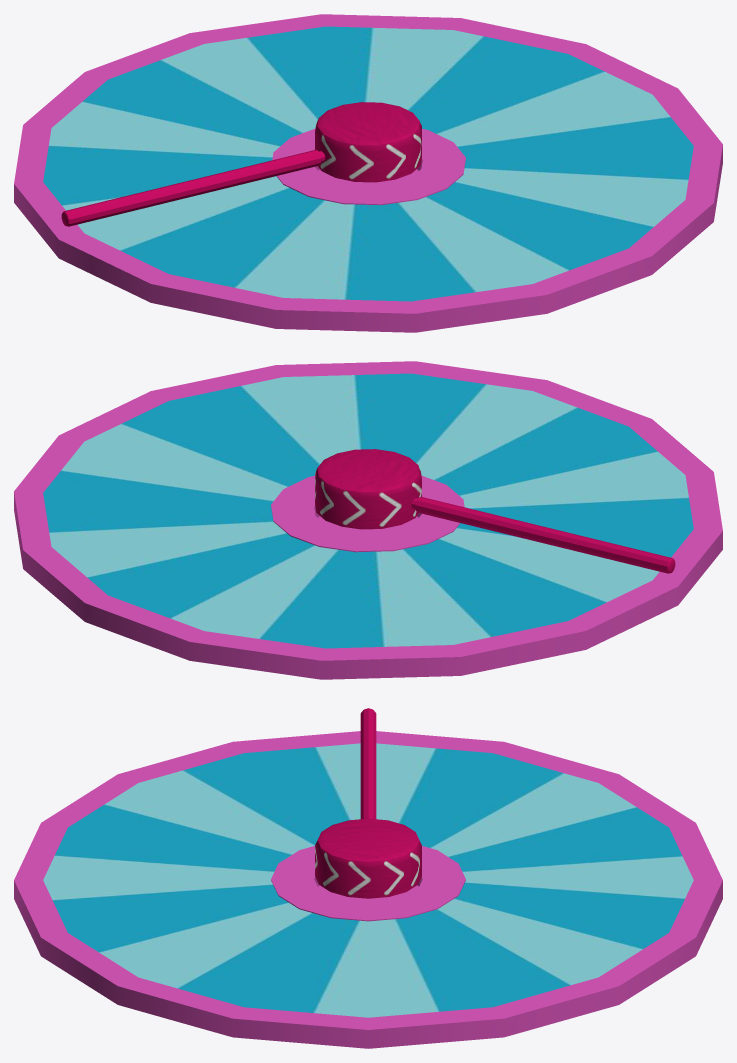
File: PLF0110010.fbx
3 renders of one model, top to bottom at view 1: azimuth 30°, elevation 25°; view 2: azimuth 150°, elevation 25°; view 3: azimuth 270°, elevation 25°, orthographic.
Visible parts, largest first — view 1: smPLF0110010; view 2: smPLF0110010; view 3: smPLF0110010.
Part boxes in pixels (x1,y1,x2,y2): smPLF0110010: [14, 14, 722, 332]; smPLF0110010: [14, 361, 722, 679]; smPLF0110010: [14, 708, 722, 1048].
Size of the model in its own units: 468 by 44.47 by 468.
1 material, 1 textured.
